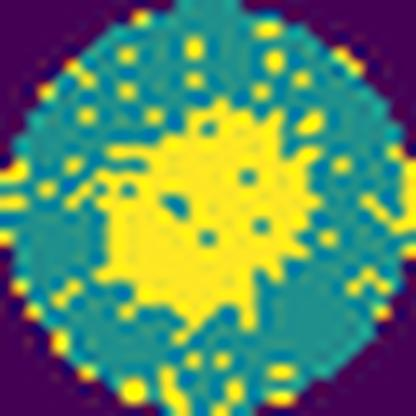Center: (94, 97, 323, 334)
